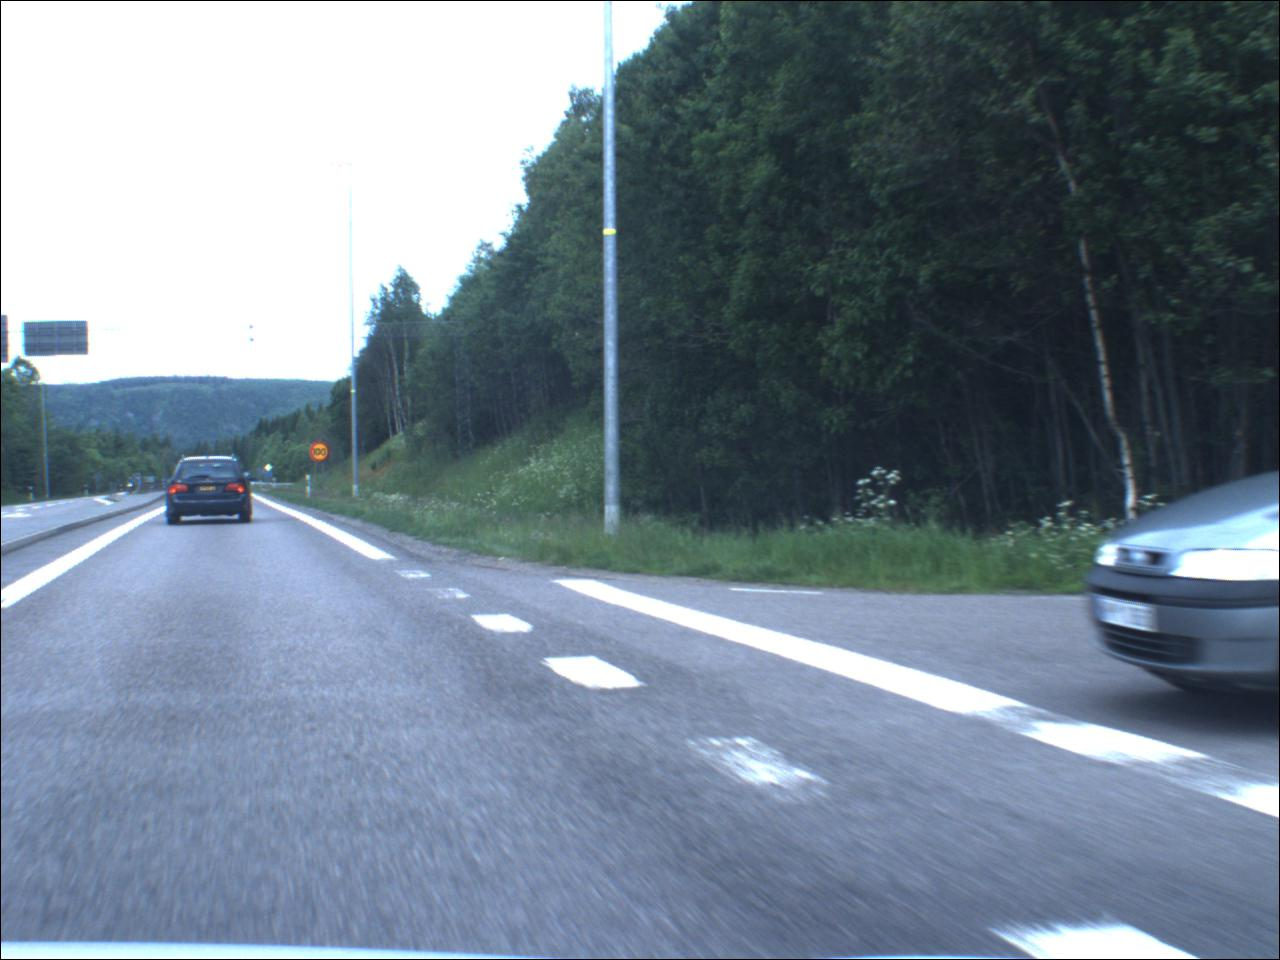100_SIGN: (310, 443, 332, 464)
PRIORITY_ROAD: (266, 464, 276, 475)
